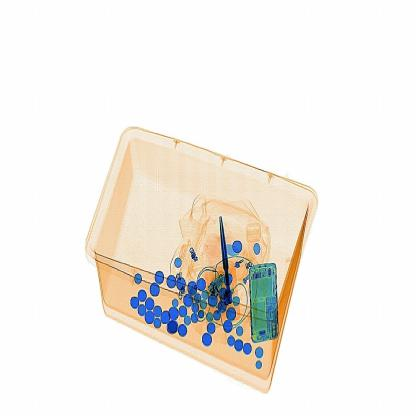gun: (208, 203, 245, 319)
